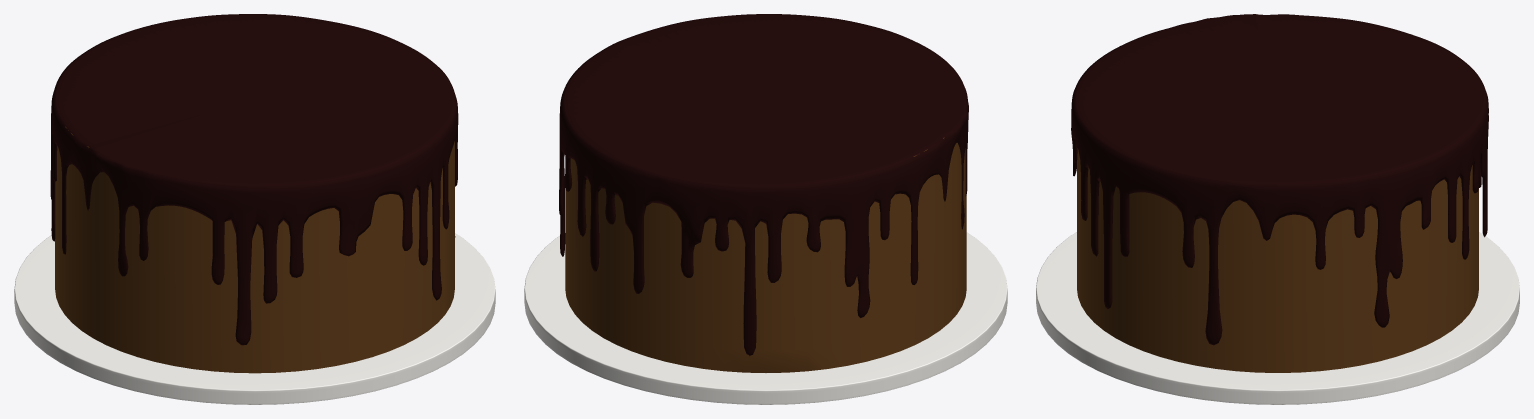
Rendered from 1773576374_cus.glb.
The picture shows the model from 3 angles, left to right: view 1: azimuth 30°, elevation 25°; view 2: azimuth 150°, elevation 25°; view 3: azimuth 270°, elevation 25°; orthographic projection.
Parts seen in each view (by area): view 1: pCylinder3, pCylinder5, pCylinder29; view 2: pCylinder3, pCylinder5, pCylinder29; view 3: pCylinder3, pCylinder5, pCylinder29.
Boxes of the visible parts, x1,y1,x2,y2 form: pCylinder3: (50, 14, 458, 345); pCylinder5: (55, 126, 454, 373); pCylinder29: (14, 233, 495, 404); pCylinder3: (559, 14, 968, 356); pCylinder5: (565, 137, 966, 372); pCylinder29: (524, 232, 1007, 404); pCylinder3: (1071, 14, 1488, 345); pCylinder5: (1077, 15, 1478, 372); pCylinder29: (1036, 232, 1519, 404).
Bounding box in the file's own units: 0.024 × 0.0112 × 0.024.
Materials: 4 (3 with a texture image).
